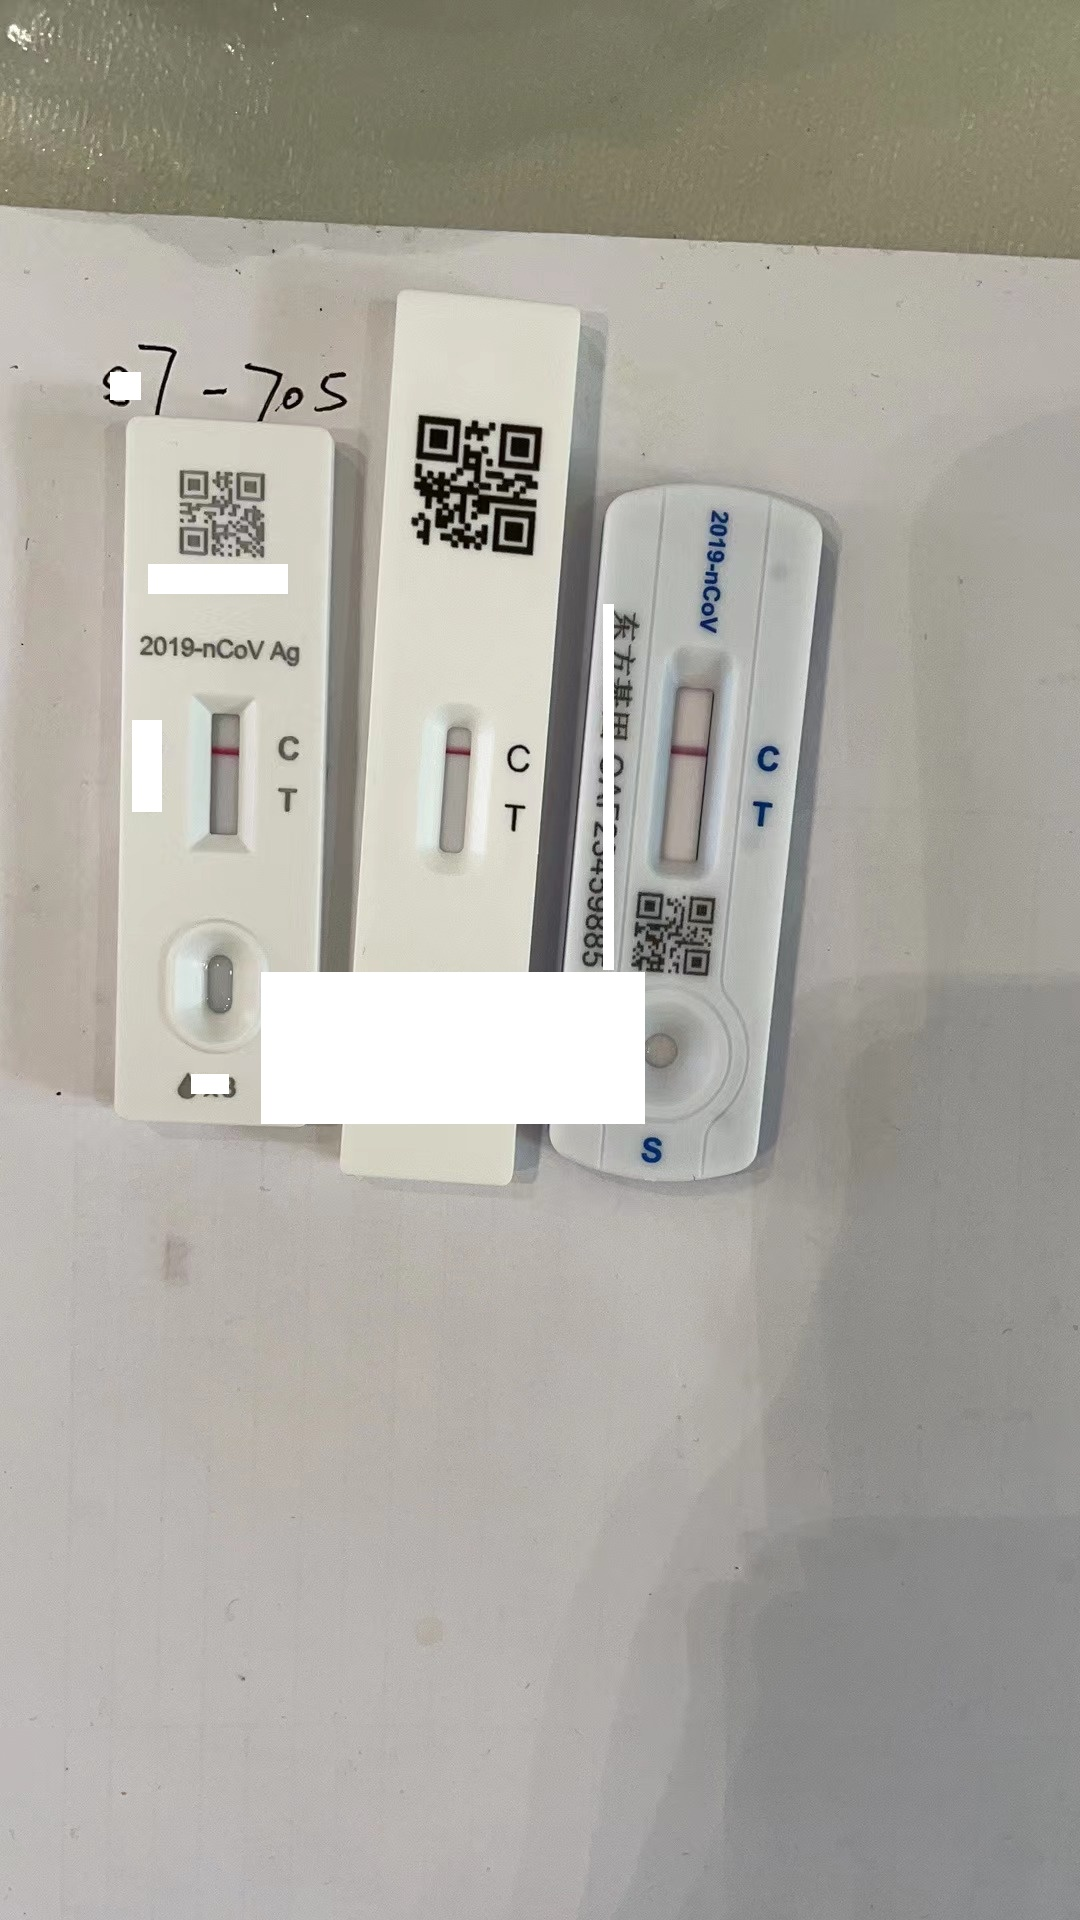negative: (647, 644, 731, 884), (417, 704, 489, 872), (190, 688, 261, 845)
